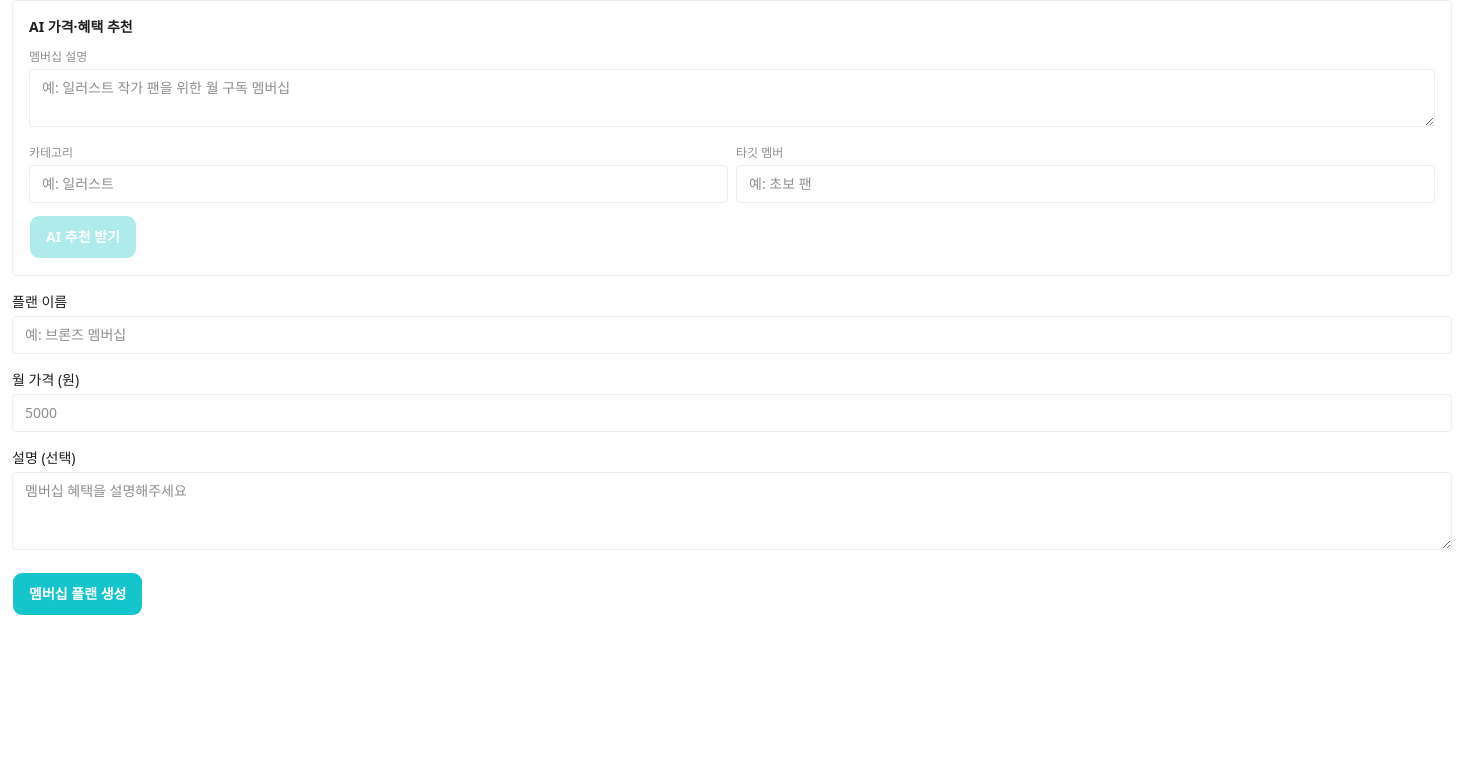
it: NewMembershipClient (SPEC-014 REQ-2-003, REQ-2-004) › Mock 폴백 시 '기본 추천' 안내 문구가 표시된다 (REQ-2-005, NFR-002, AC-2-003)
The image size is (1464, 779).
Type "멤버십" into the text box labelled "멤버십 설명" at (732, 98), box [29,69,1435,127]
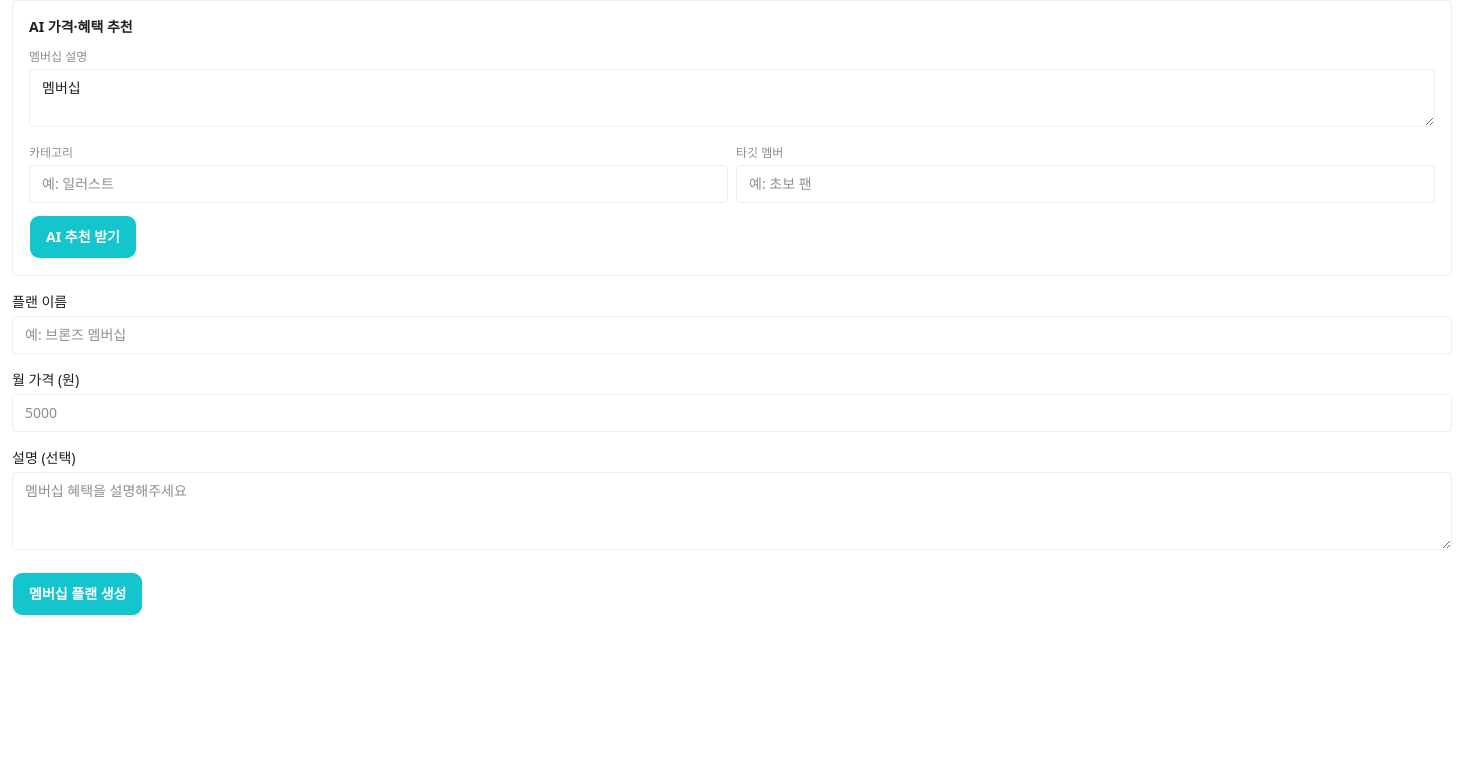
Click the button "AI 추천 받기" at (83, 237), box [29,215,137,259]
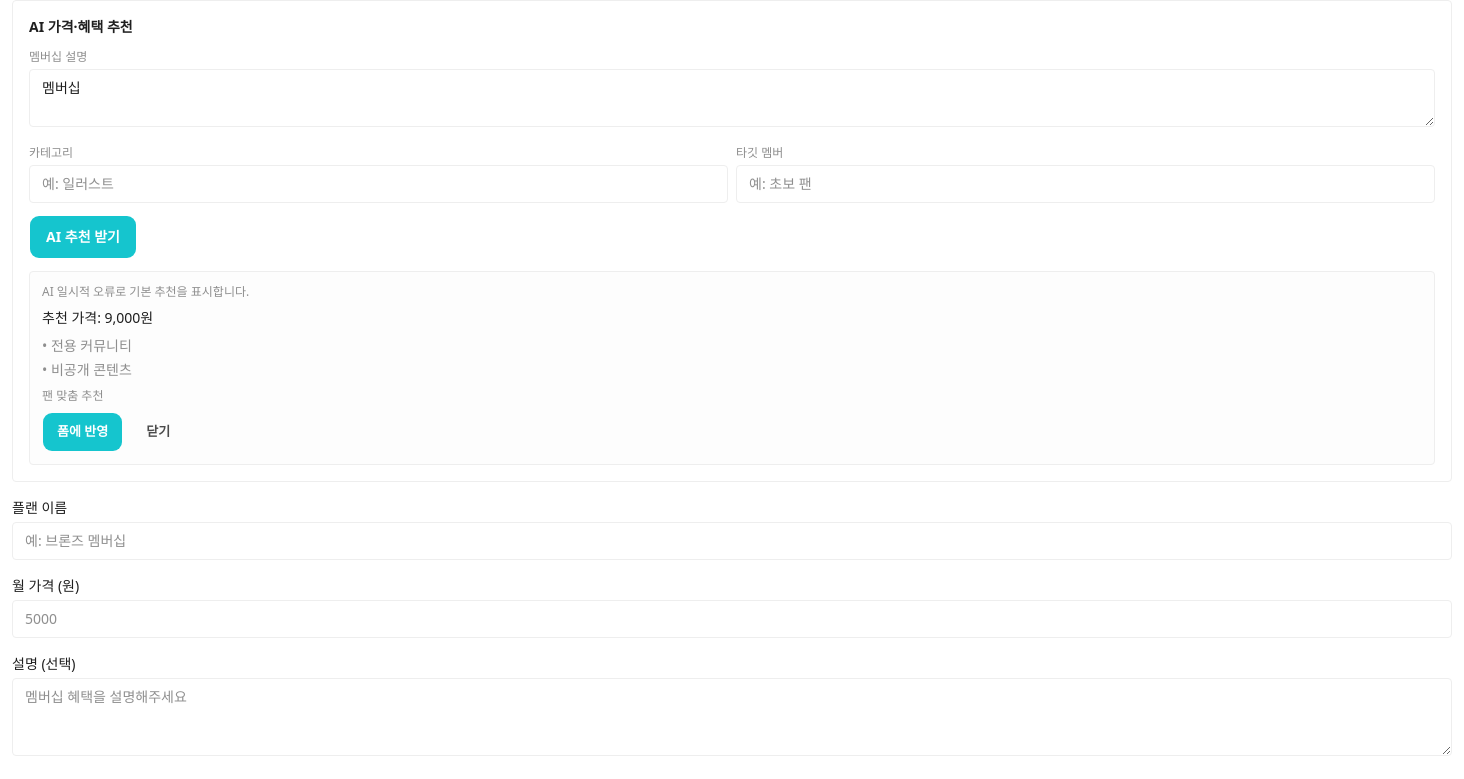
Expected: the text "AI 일시적 오류로 기본 추천을 표시합니다." is shown, [42,283,249,300]
